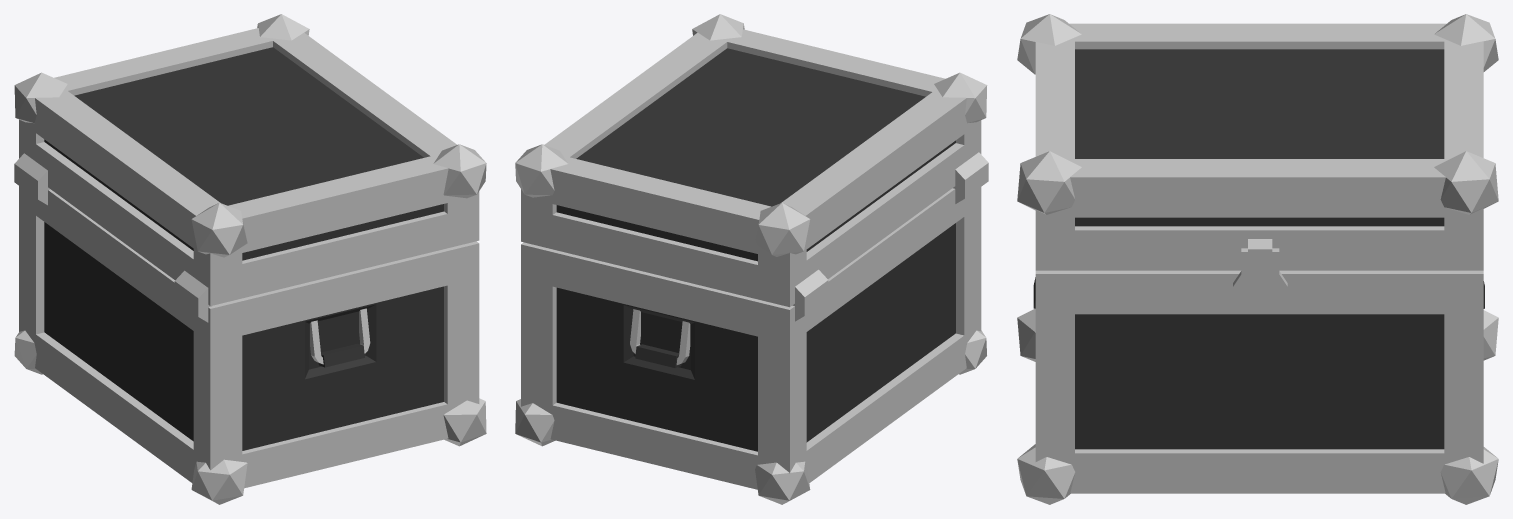
The model's file is AmpRack_01.glb.
3 renders of one model, left to right at view 1: azimuth 30°, elevation 25°; view 2: azimuth 150°, elevation 25°; view 3: azimuth 270°, elevation 25°, orthographic. The views are drawn at different scales.
Parts seen in each view (by area): view 1: MusicContainer_1_mesh; view 2: MusicContainer_1_mesh; view 3: MusicContainer_1_mesh.
Boxes of the visible parts, x1,y1,x2,y2 form: MusicContainer_1_mesh: [14, 14, 486, 504]; MusicContainer_1_mesh: [515, 14, 988, 504]; MusicContainer_1_mesh: [1017, 14, 1498, 504].
Size of the model in its own units: 0.4619 by 0.456 by 0.5622.
2 materials, 2 textured.
